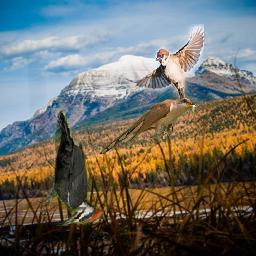Cuckoo: (100, 96, 199, 154)
Sparrow: (126, 24, 205, 104)
Woodpecker: (38, 108, 105, 226)
